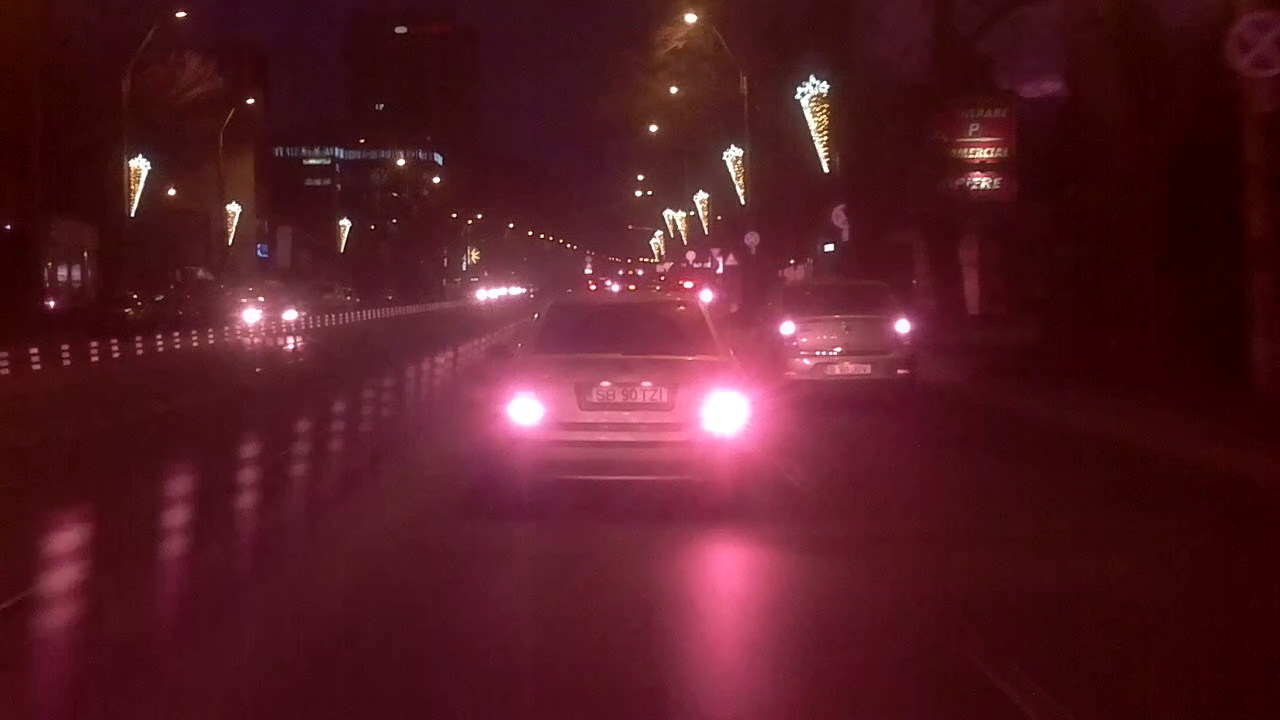license-plate: (582, 384, 671, 406)
